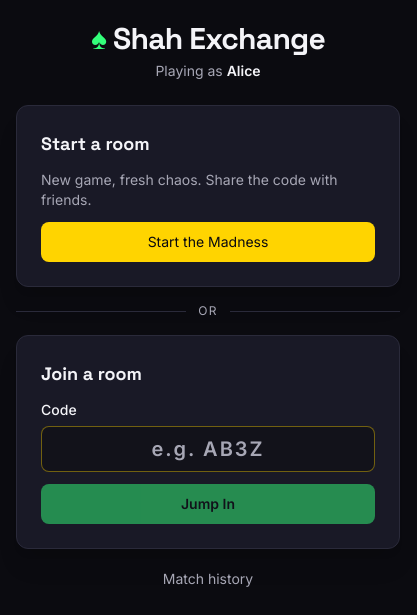
it: LobbyPage › shows "Room not found" on 404 error
Type "ZZZZ" into the field labelled "Code" at (208, 449), box [41, 426, 375, 472]
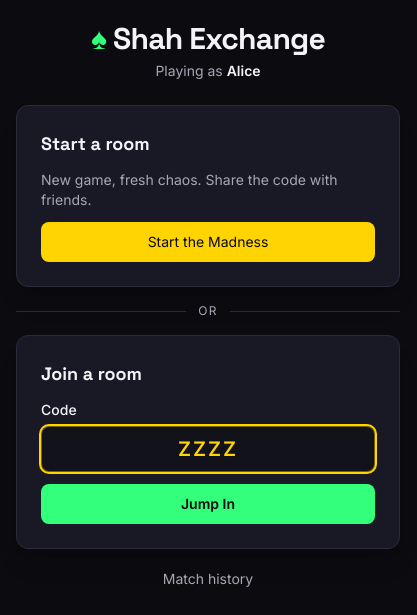
Click the button with aria-label "join room" at (208, 504), box [41, 484, 375, 524]
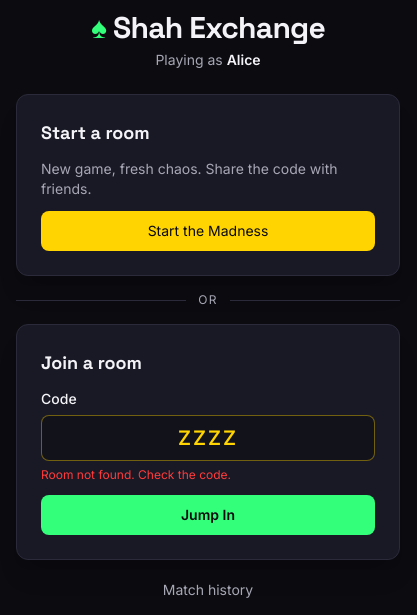
Expected: the message shows "not found", [41, 467, 231, 482]
